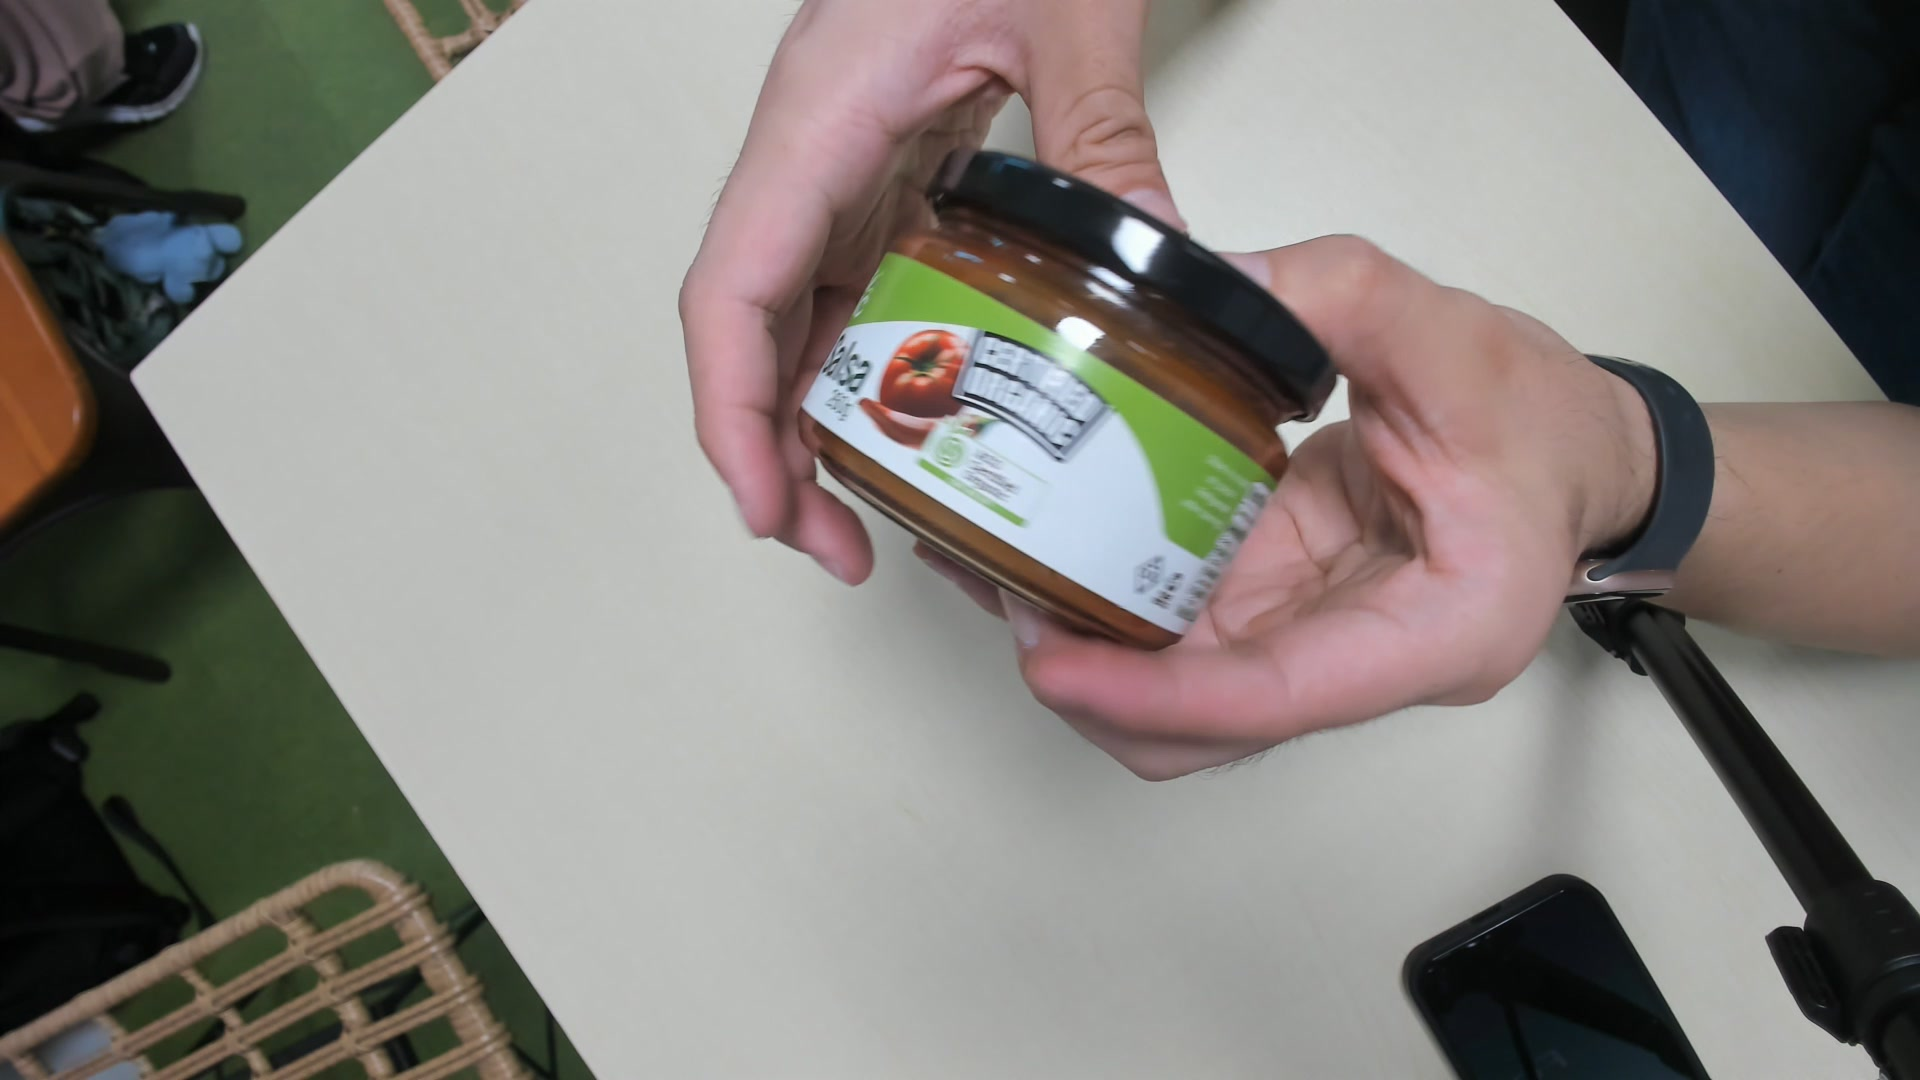OtherSauceDressing_200-299g_NonHalal_NonHealthy: (794, 146, 1337, 649)
